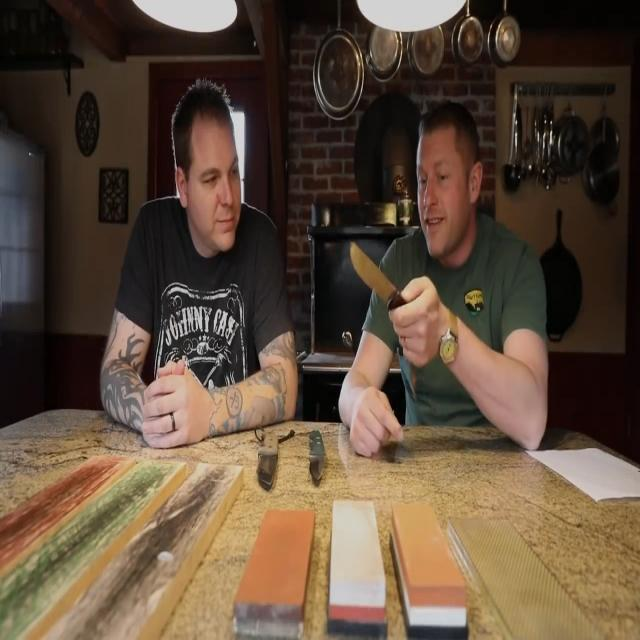knife: (348, 236, 402, 311), (260, 417, 284, 491), (308, 419, 329, 494)
